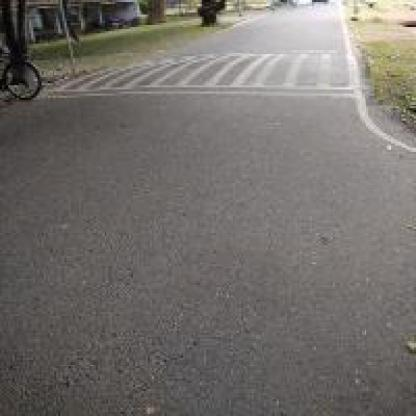Speed Bump: (48, 48, 366, 100)
